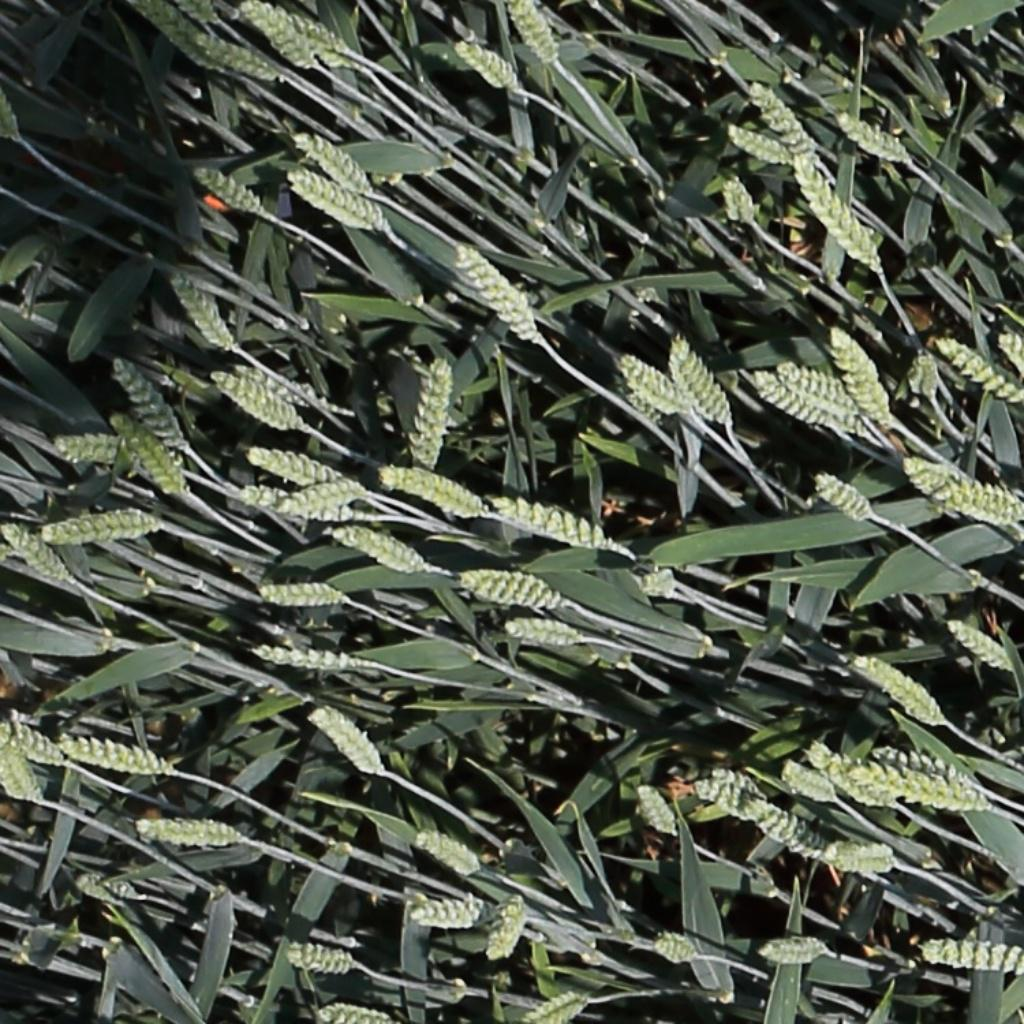0-0: (786, 147, 883, 273), (449, 238, 539, 341), (103, 350, 188, 453), (824, 319, 899, 429), (734, 786, 836, 863), (106, 407, 188, 502), (802, 737, 902, 814), (126, 0, 227, 75), (847, 764, 994, 813), (284, 167, 387, 235), (167, 263, 244, 353), (744, 76, 821, 163), (667, 333, 734, 431), (933, 337, 1024, 408), (851, 655, 943, 724), (486, 498, 610, 548), (54, 729, 175, 780), (129, 807, 256, 855), (304, 705, 383, 780), (36, 505, 169, 548), (208, 370, 301, 431), (235, 0, 318, 68), (376, 465, 484, 517), (774, 361, 869, 420), (288, 126, 371, 192), (870, 745, 984, 793), (412, 353, 457, 473), (232, 483, 361, 521), (750, 372, 837, 428), (614, 354, 692, 415), (689, 765, 770, 823), (266, 472, 368, 518), (329, 525, 425, 572), (227, 361, 322, 408), (913, 935, 1024, 975), (197, 38, 289, 86), (933, 477, 1024, 525), (1, 521, 69, 585), (241, 446, 344, 486), (834, 109, 909, 161), (457, 570, 559, 608), (503, 0, 558, 69), (944, 619, 1014, 673), (484, 887, 530, 968), (903, 448, 972, 502), (188, 162, 262, 212), (71, 863, 142, 913), (451, 39, 517, 91), (251, 643, 361, 674), (252, 577, 354, 610), (776, 757, 844, 806), (0, 741, 52, 805), (0, 715, 65, 766), (629, 779, 678, 843), (279, 938, 356, 978), (502, 612, 583, 650), (811, 471, 872, 521), (406, 898, 488, 935), (45, 430, 129, 465), (409, 828, 476, 871), (723, 120, 790, 162), (312, 994, 401, 1024), (756, 934, 828, 971), (716, 167, 757, 229), (293, 13, 352, 56), (826, 838, 900, 872), (905, 344, 948, 402), (525, 992, 587, 1024), (648, 931, 706, 964), (307, 38, 361, 73), (628, 567, 676, 606), (995, 329, 1024, 385), (178, 0, 225, 28)
